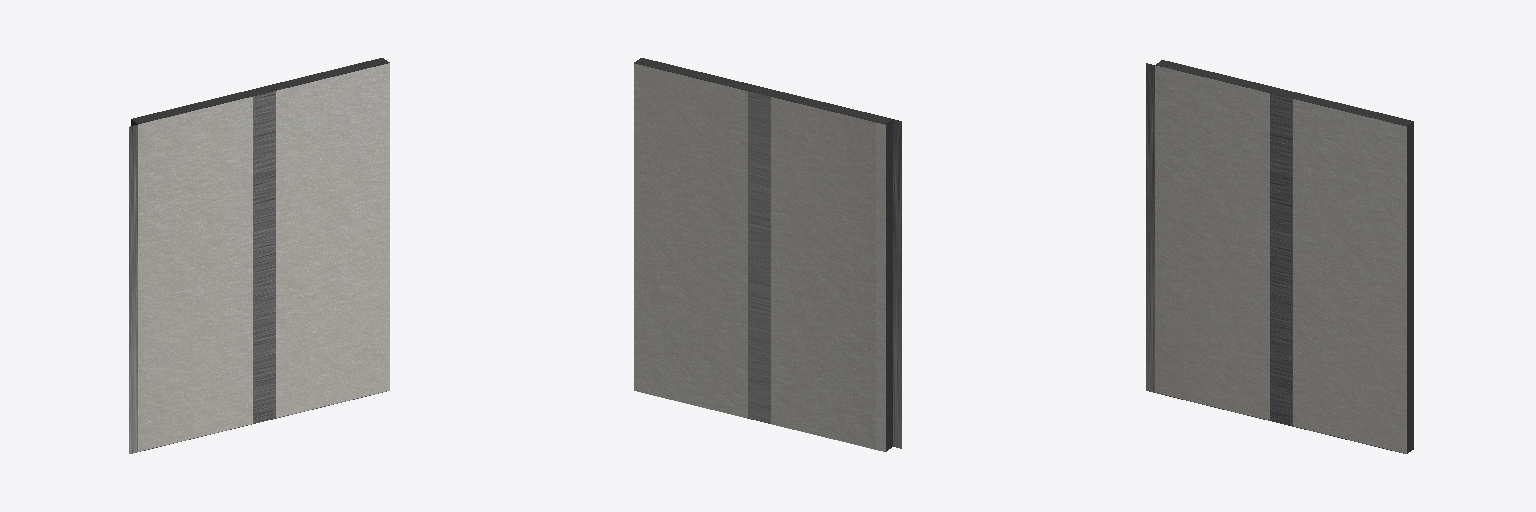
3 views of the same model, side by side, from view 1: azimuth 30°, elevation 25°; view 2: azimuth 150°, elevation 25°; view 3: azimuth 330°, elevation 25° (orthographic).
Visible parts, largest first — view 1: Plane; view 2: Plane; view 3: Plane.
Boxes of the visible parts, box(x1,y1,x2,y2) form: Plane: box(129, 58, 389, 453); Plane: box(634, 58, 901, 451); Plane: box(1146, 60, 1413, 453).
Size of the model in its own units: 3.96 by 4.76 by 0.1944.
1 materials, 1 textured.